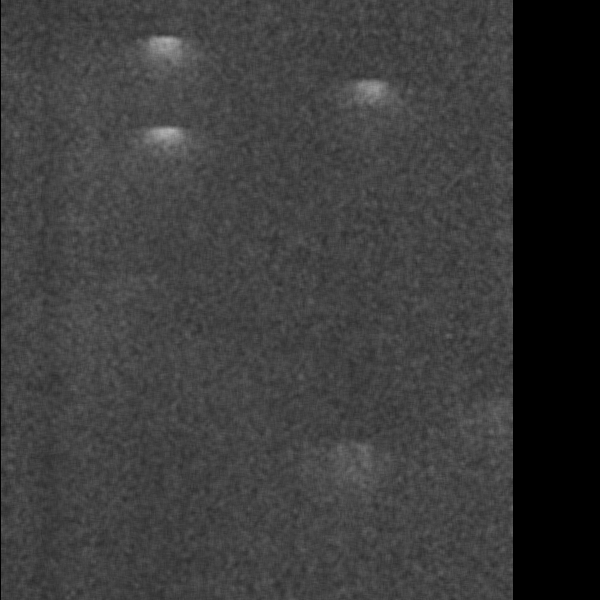spark: (412, 57, 443, 98), (95, 1, 126, 32)
